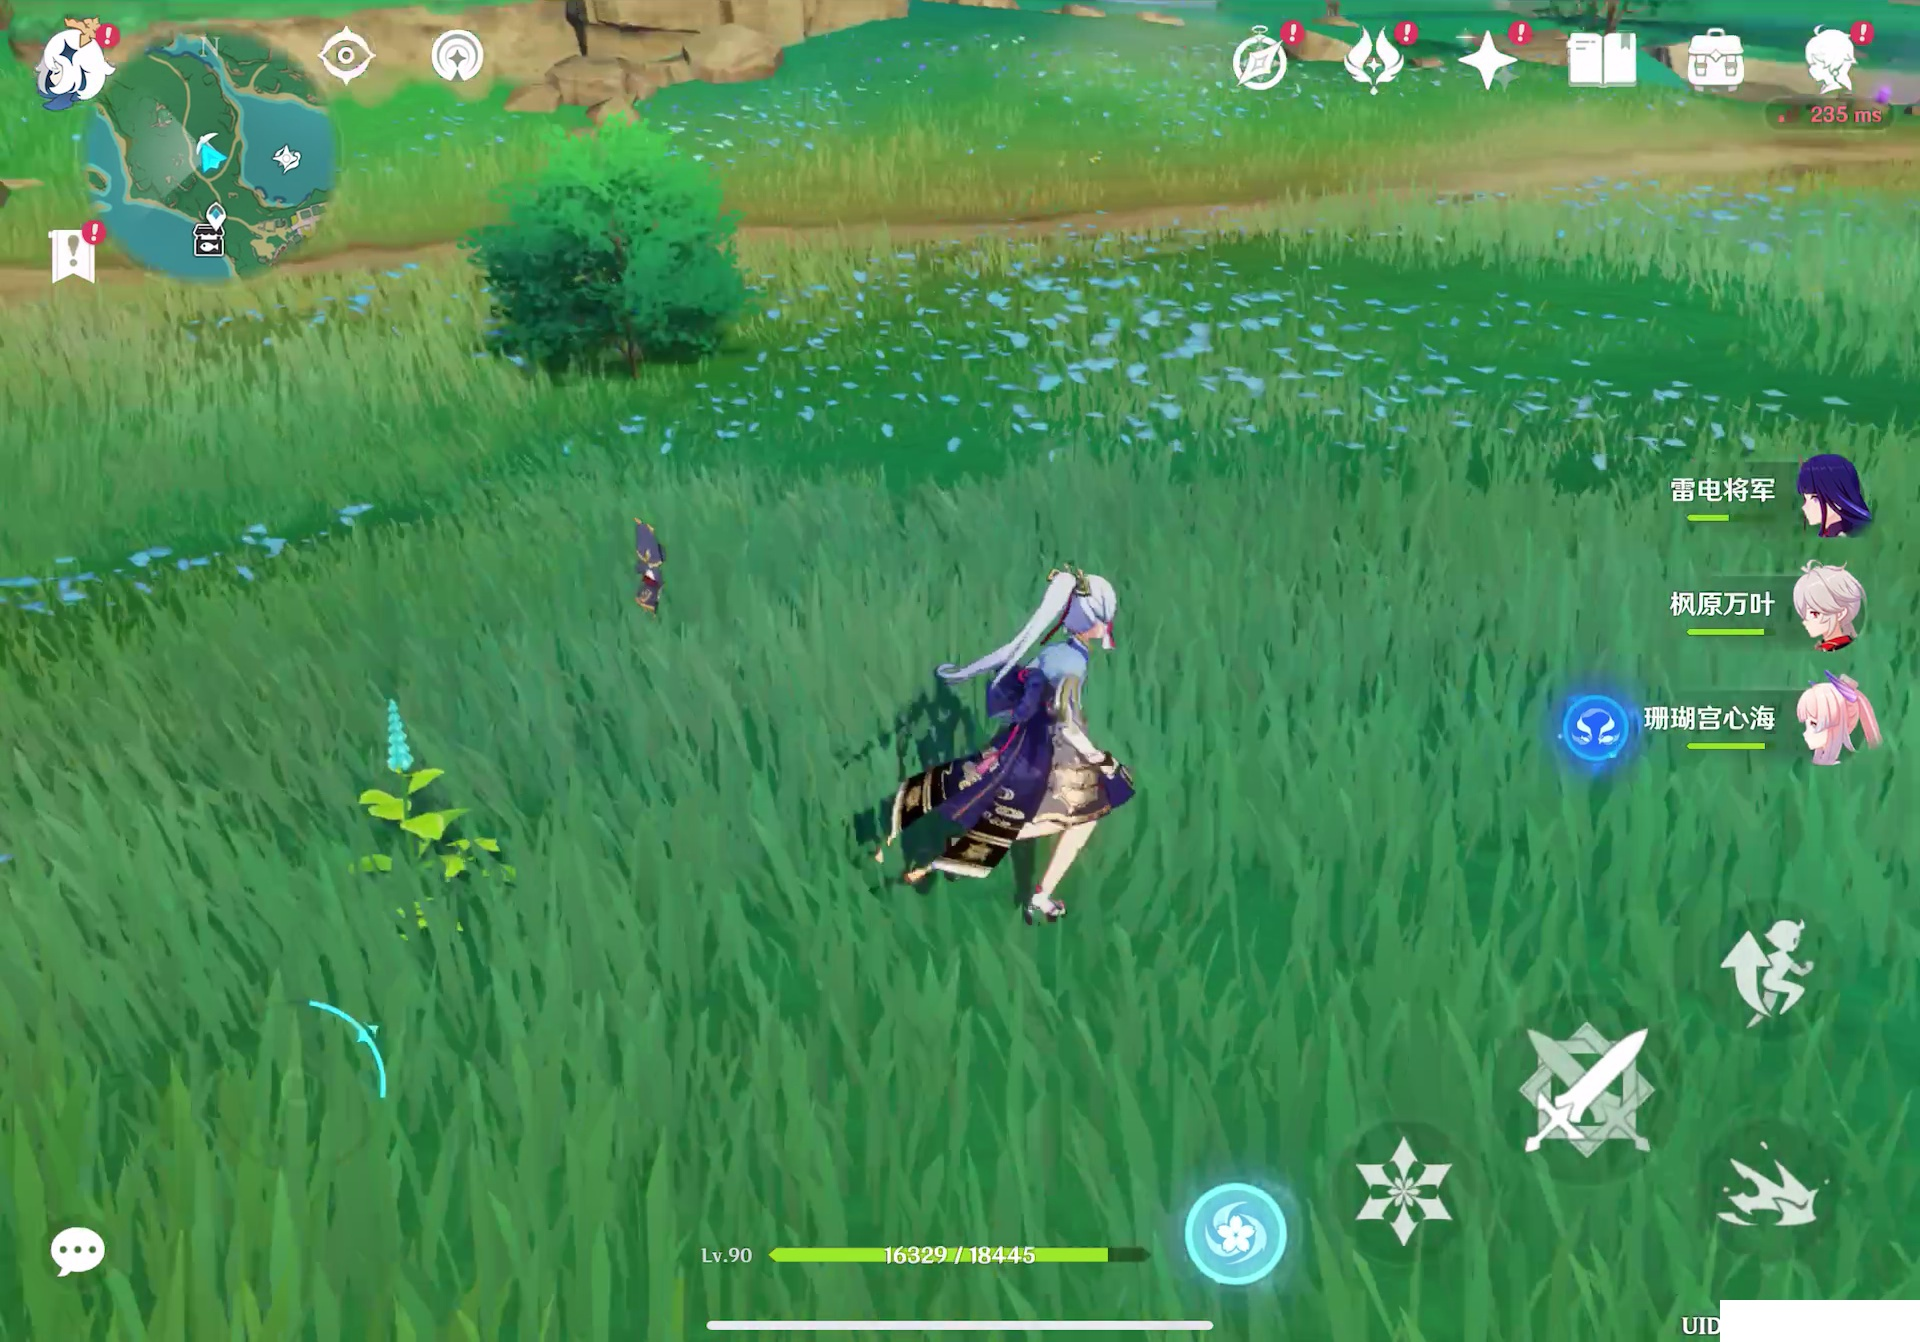没用的薄荷: (343, 691, 530, 967)
神里绫龟: (886, 532, 1174, 935)
